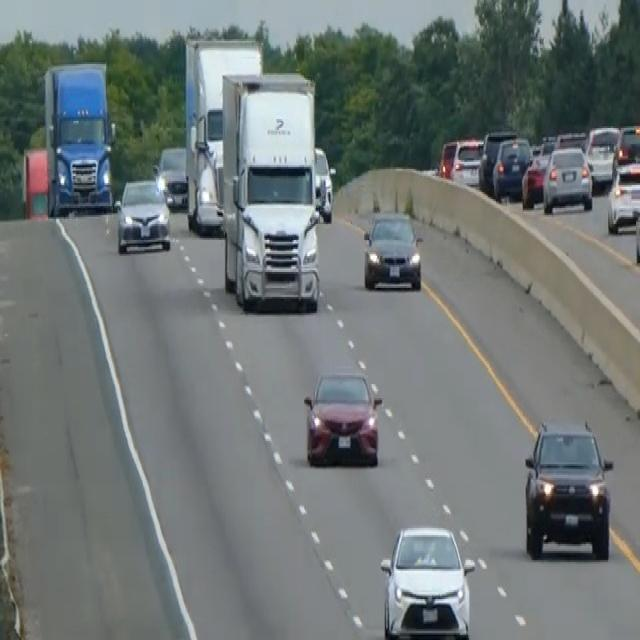car: (378, 521, 475, 638), (302, 366, 383, 468), (362, 208, 422, 292), (114, 176, 171, 254), (541, 142, 593, 214), (492, 135, 533, 201), (478, 126, 516, 192), (606, 158, 639, 233), (520, 139, 555, 208), (584, 122, 620, 188), (154, 144, 188, 210), (439, 135, 483, 185), (313, 144, 334, 220), (613, 121, 639, 172), (634, 186, 639, 266)
jeep: (522, 414, 614, 562)
lorry: (219, 69, 324, 313), (41, 57, 116, 217)
